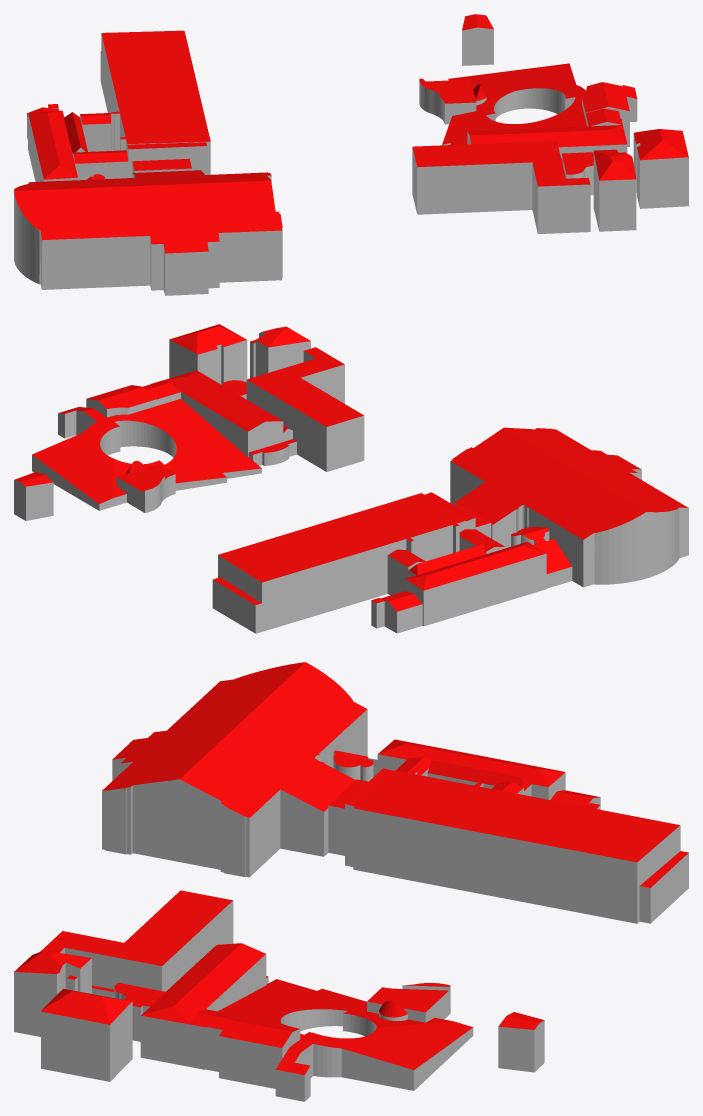
3 views of the same model, one above another, from view 1: azimuth 30°, elevation 25°; view 2: azimuth 150°, elevation 25°; view 3: azimuth 270°, elevation 25° (orthographic). The views are drawn at different scales.
Bounding box in the file's own units: 249 × 26.61 × 196.
